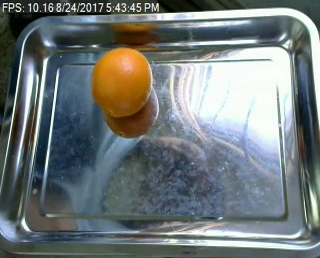Orange: (91, 47, 153, 116)
